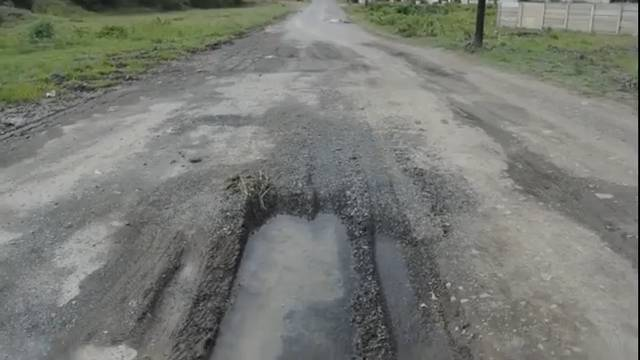pothole: (406, 128, 640, 360)
